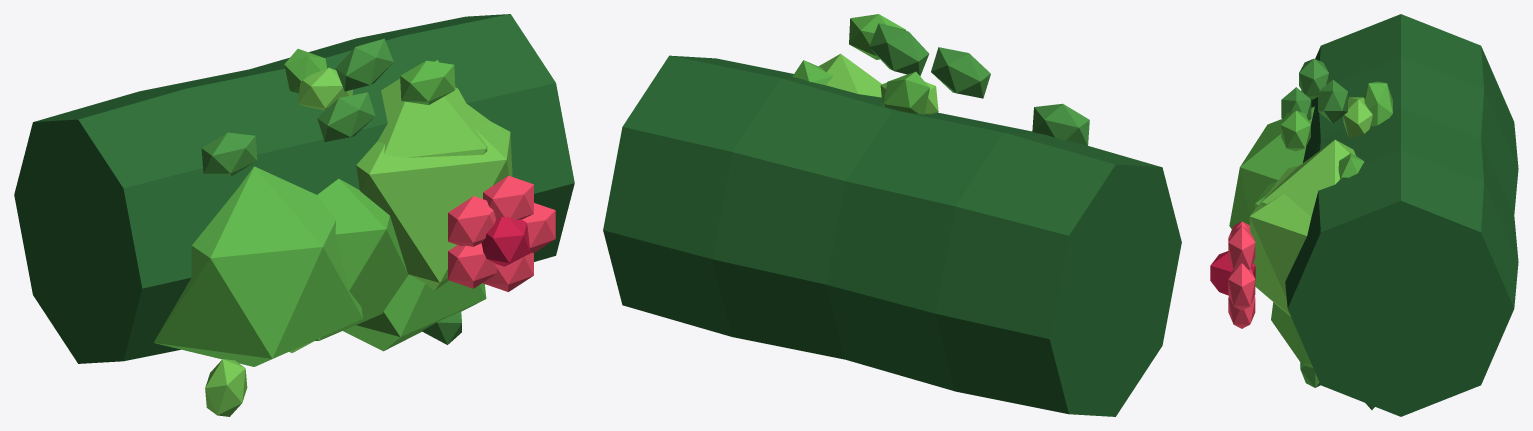
File: hedge_a.glb
3 views of the same model, side by side, from view 1: azimuth 30°, elevation 25°; view 2: azimuth 150°, elevation 25°; view 3: azimuth 270°, elevation 25° (orthographic). The views are drawn at different scales.
Parts seen in each view (by area): view 1: Core; view 2: Core; view 3: Core.
Boxes of the visible parts, bbox=[...] form: Core: bbox=[14, 14, 574, 416]; Core: bbox=[603, 14, 1181, 416]; Core: bbox=[1210, 14, 1518, 416].
Bounding box in the file's own units: 1 × 0.7135 × 0.6972.
